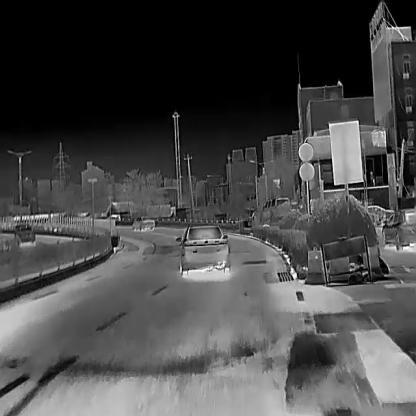car: (179, 222, 230, 275), (380, 209, 416, 250), (261, 198, 291, 214), (364, 205, 393, 221), (13, 223, 36, 241), (130, 215, 155, 231)
